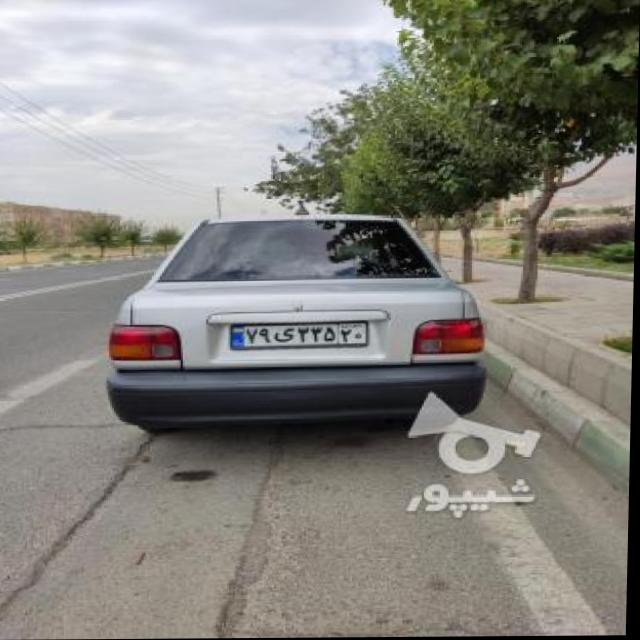licence: (230, 322, 368, 346)
